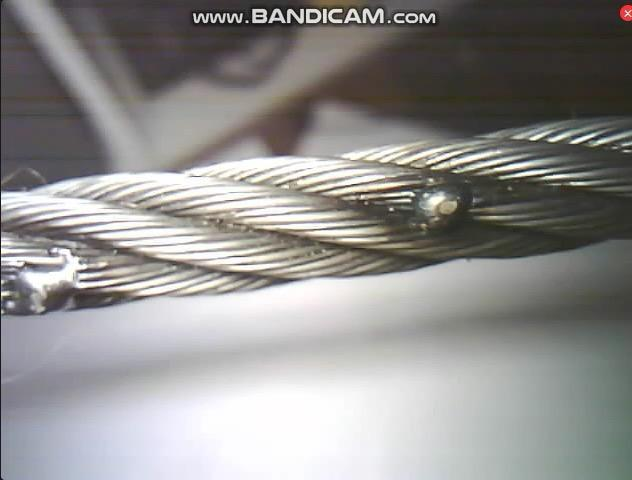thunderbolt: (0, 221, 98, 328), (400, 154, 483, 235)
